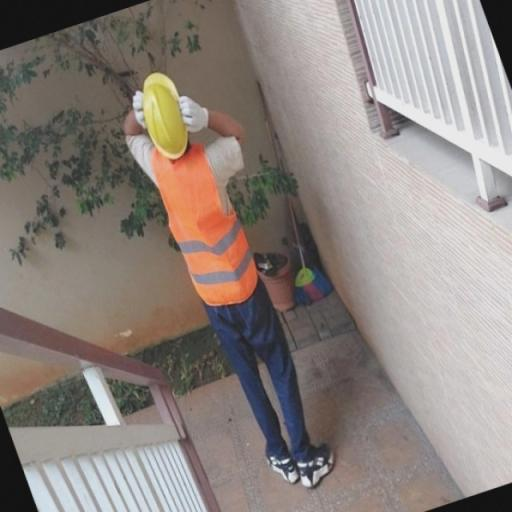Person: (108, 62, 366, 487)
gloves: (178, 89, 212, 136), (129, 88, 146, 132)
helmet: (137, 70, 187, 163)
vest: (142, 150, 266, 319)
